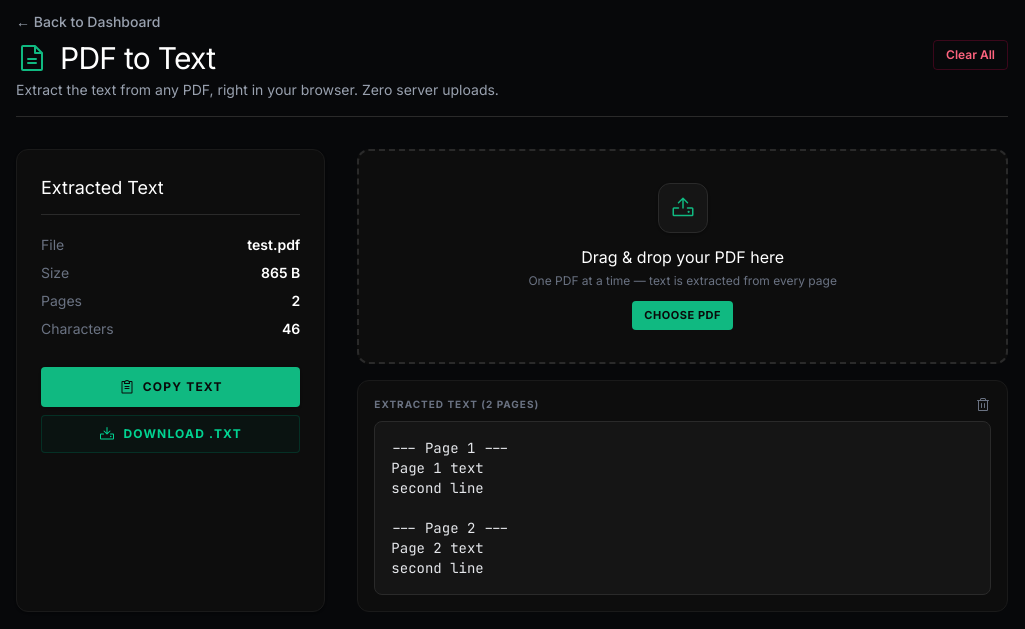
it: PdfToTxt component › copies the extracted text to the clipboard
Earlier steps of the test are not shown.
Expected: the text "Page 1 text" is shown, [391, 438, 509, 576]
Click the button "Copy Text".
click(171, 387)  # box [41, 367, 300, 407]
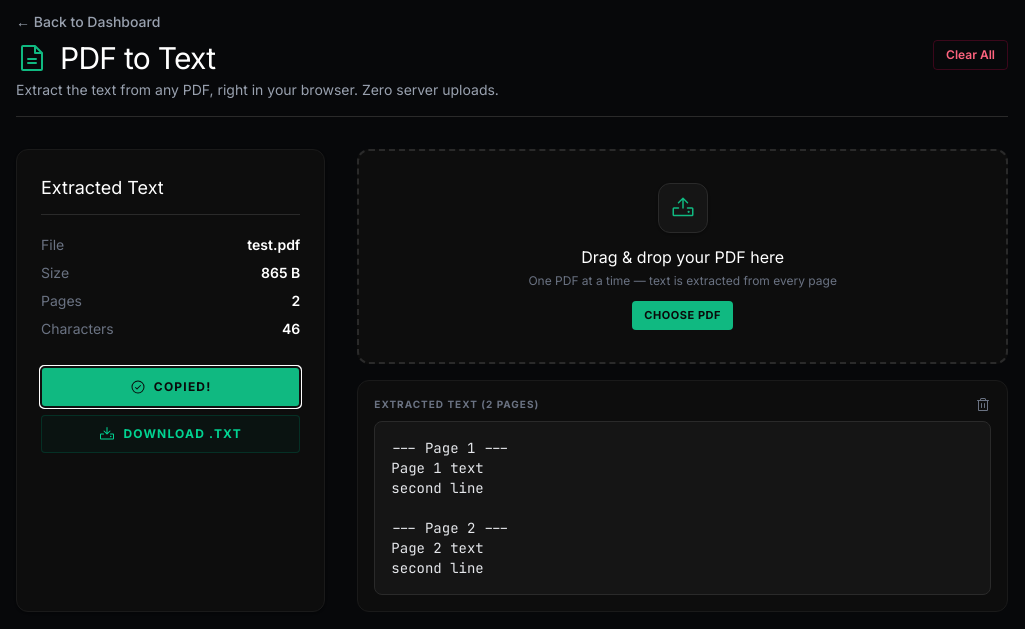
Now the button "Copied!" is shown, box [41, 367, 300, 407]
